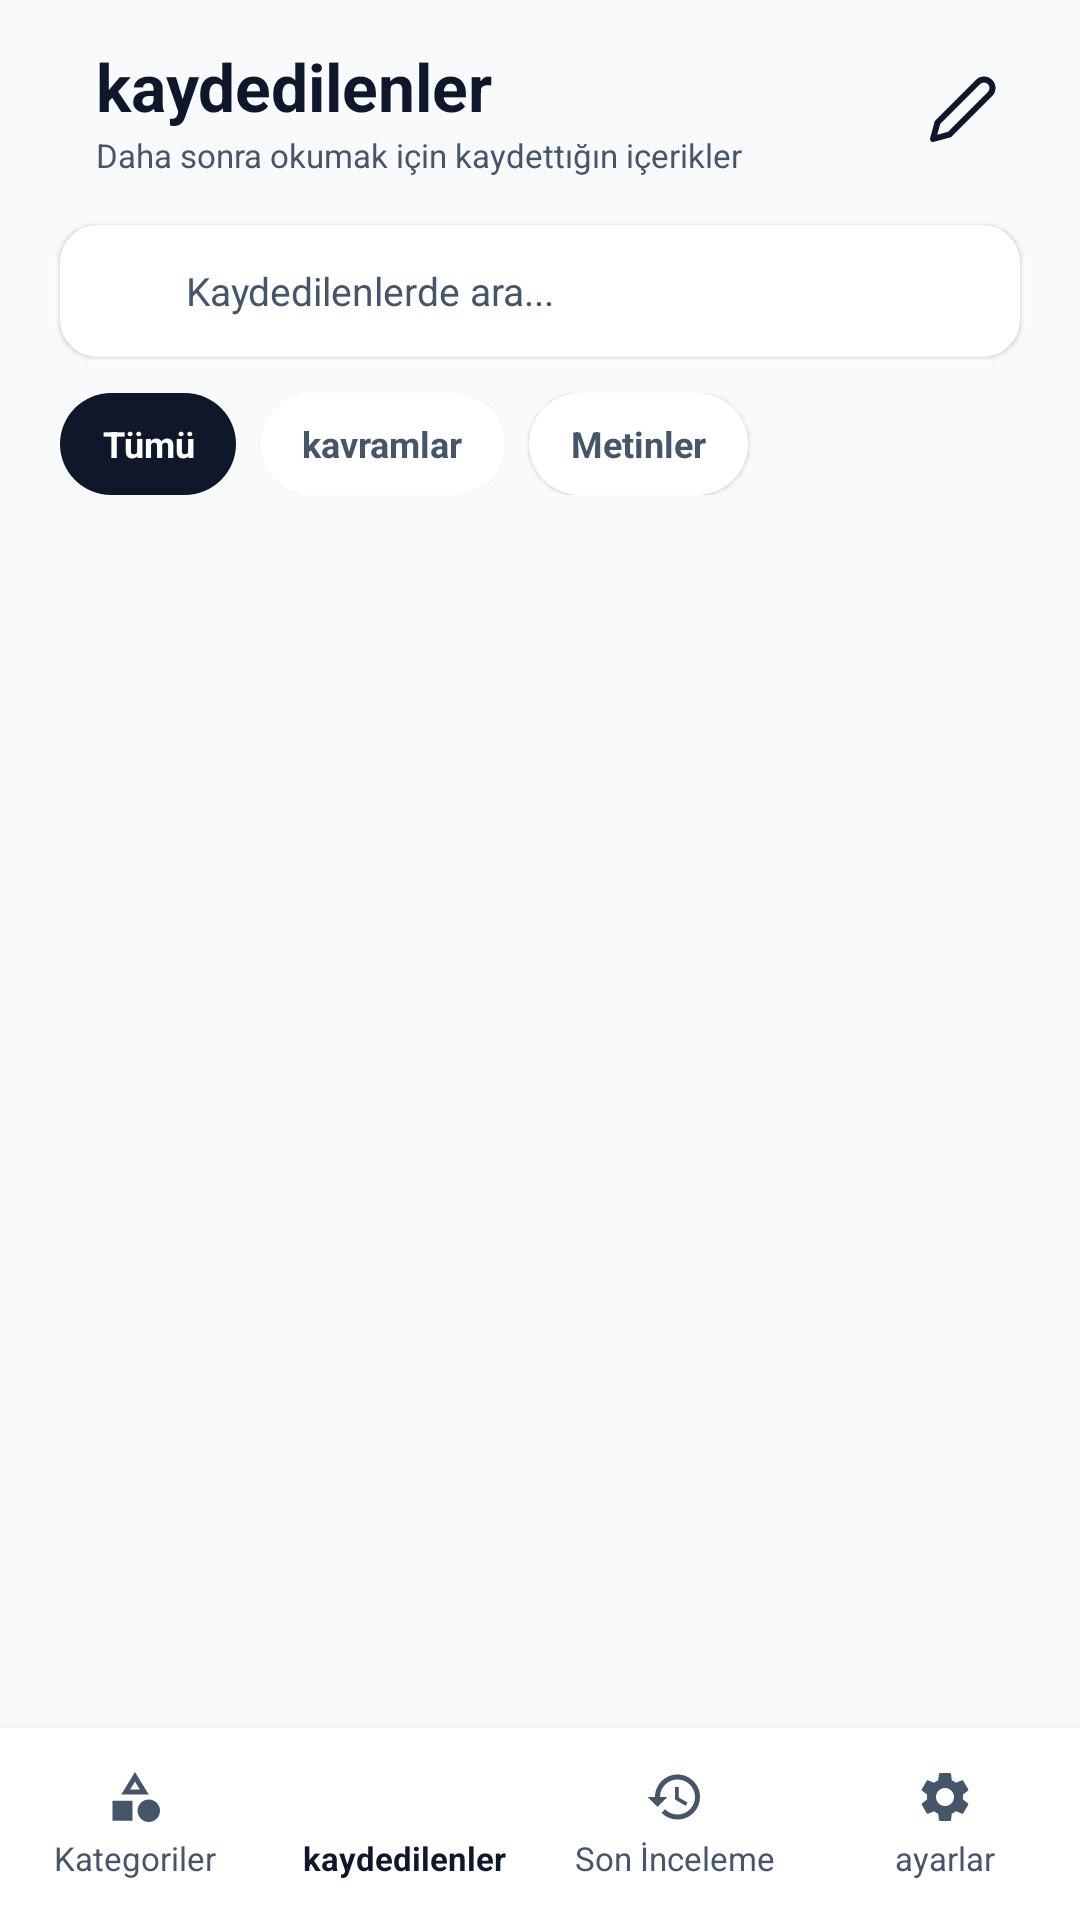

Icon click points for this 1080px x 1920px phone screenshot, format [x,y]:
history: [674,1797]
pen: [963,109]
